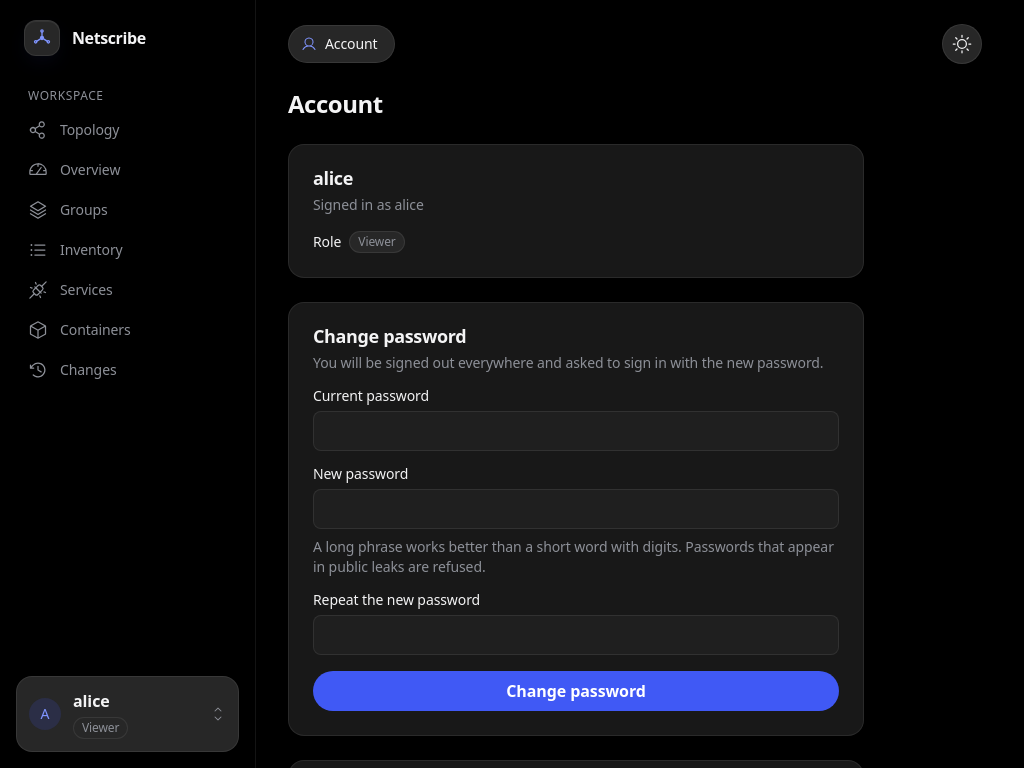
Account › shows the server's reason when the password is refused
In the password field labelled "Current password": (576, 431) [313,411,839,451], type "wrong wrong wrong"
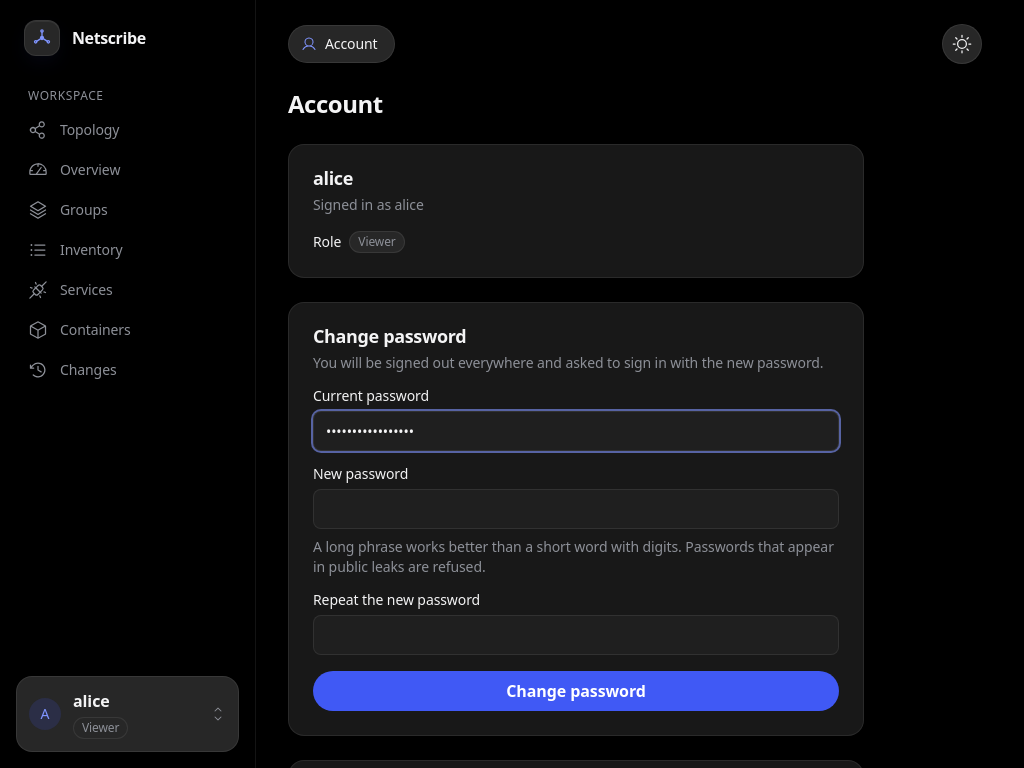
In the password field labelled "New password": (576, 509) [313,489,839,529], type "a brand new passphrase"
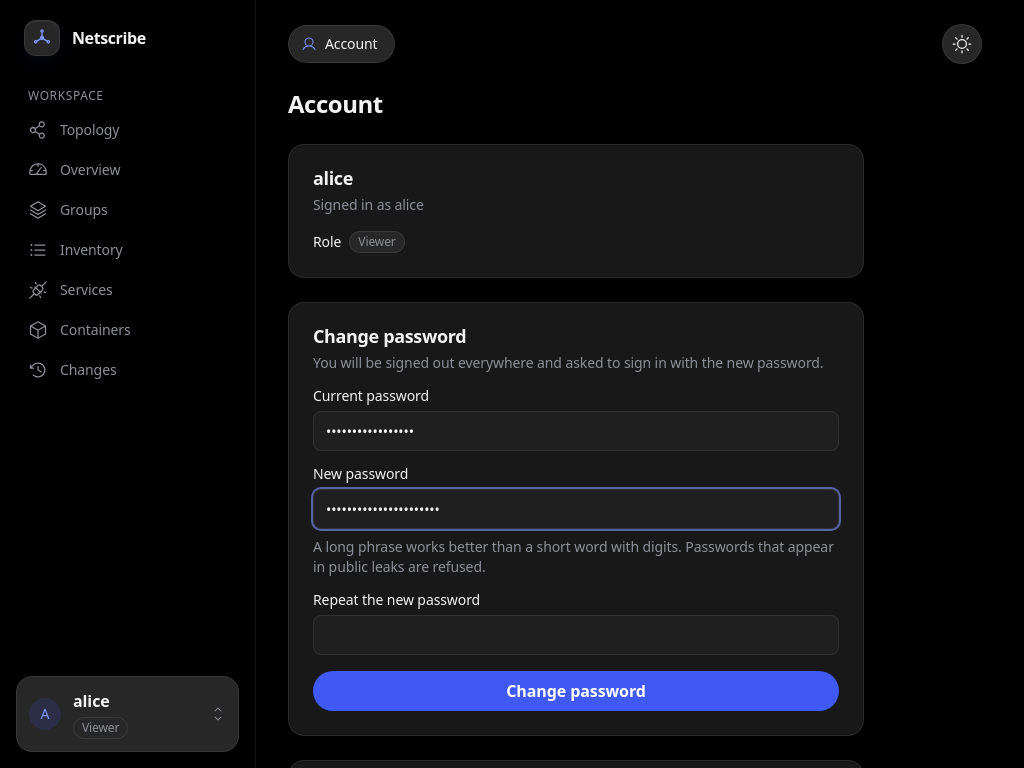
In the password field labelled "Repeat the new password": (576, 635) [313,615,839,655], type "a brand new passphrase"
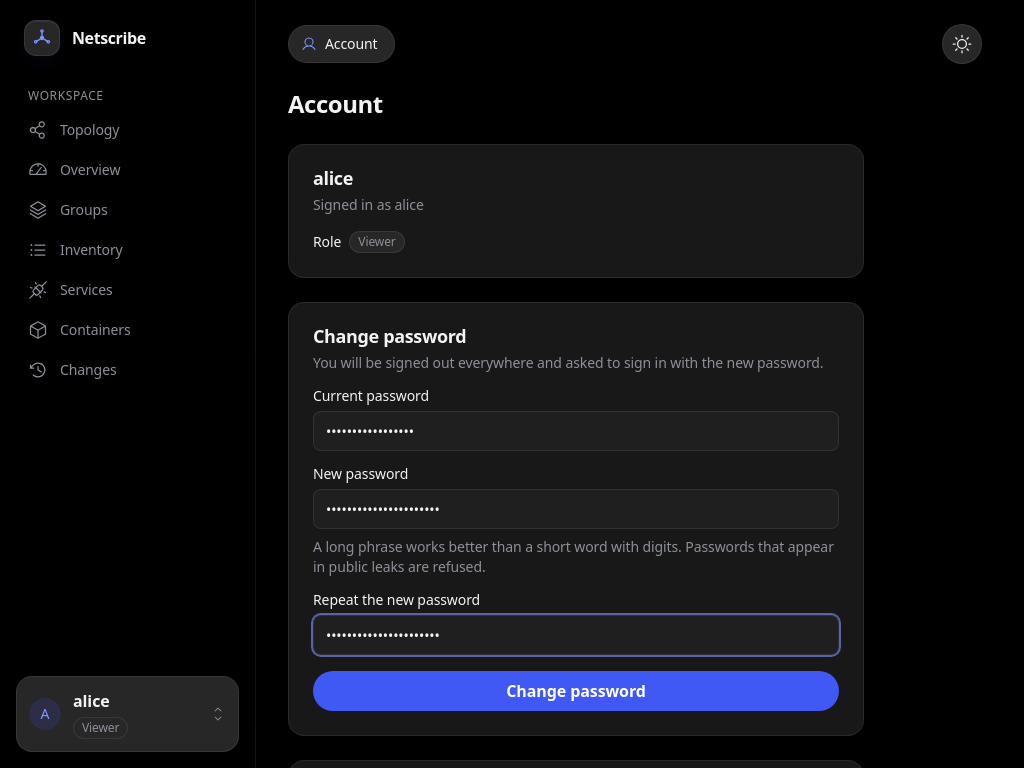
Click the button "Change password": (576, 691) [313,671,839,711]
(page scrolled)
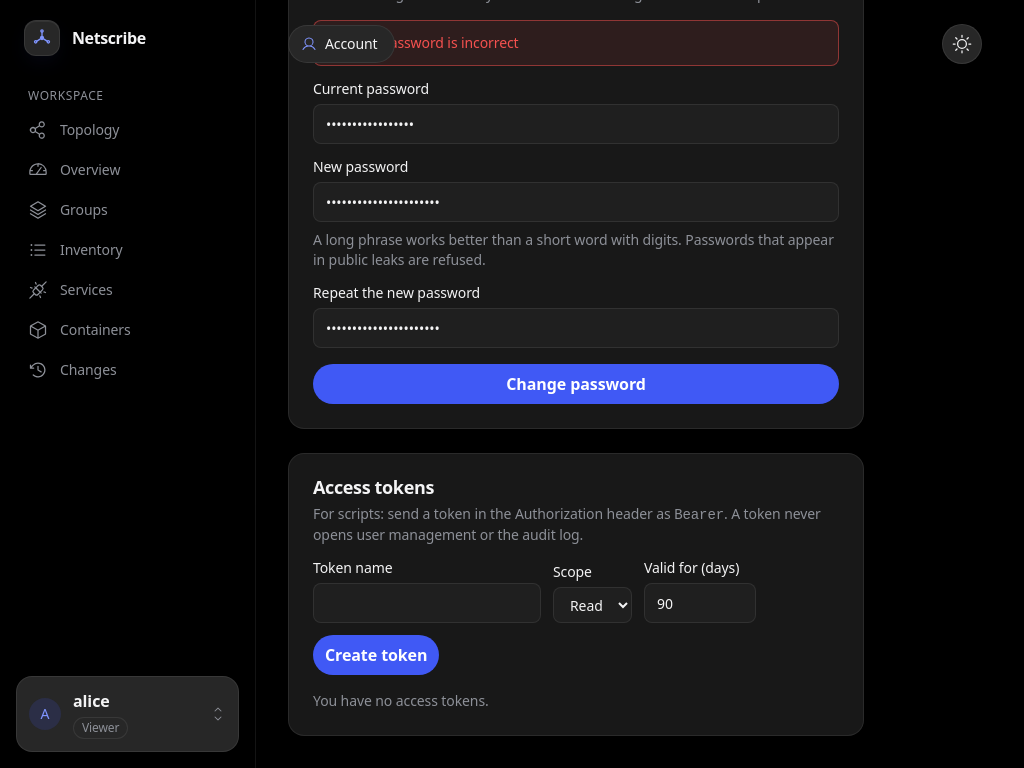
Expected: the button "Change password" is enabled, [313,364,839,404]
Result: the message reads "current password is incorrect" at [330,33,519,52]
